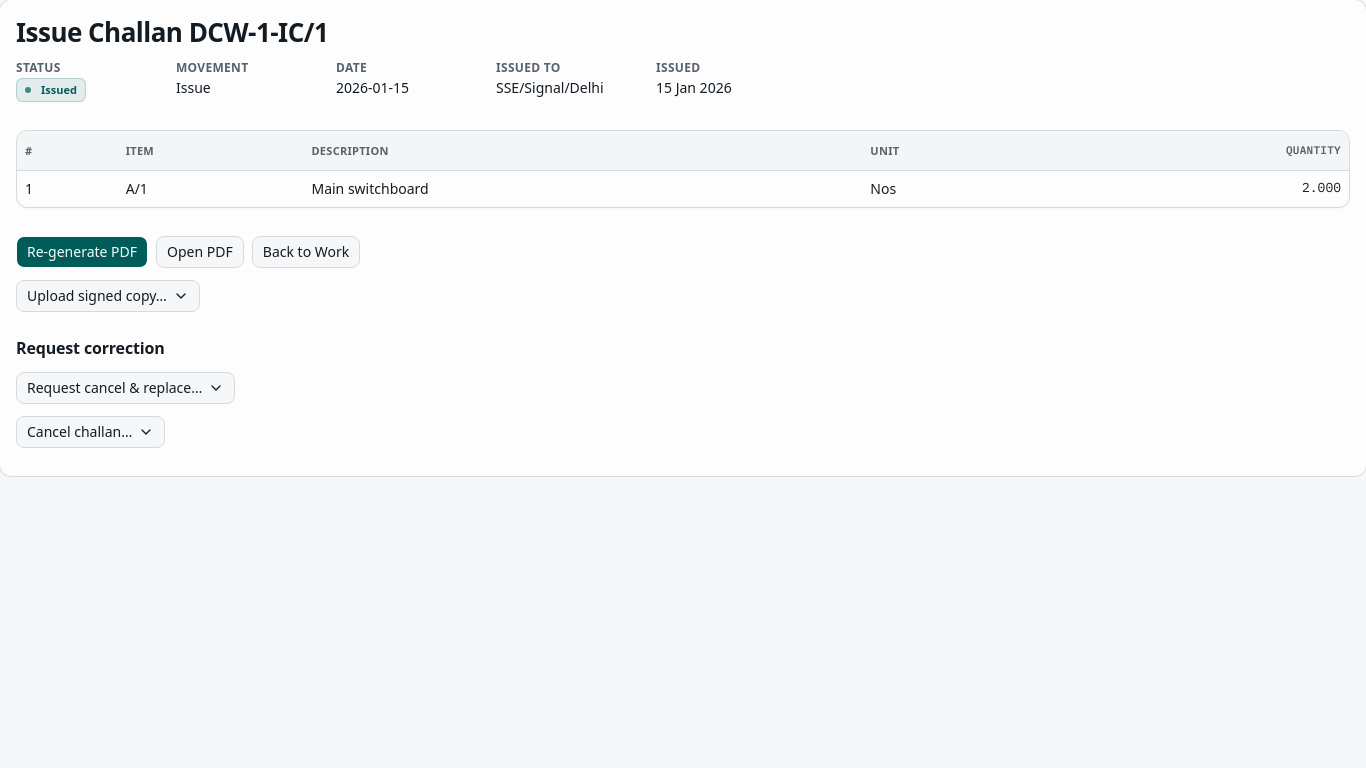
it: IssueChallanDetail on a completed Work › leaves both forms open while the Work is active
Click the button "Cancel challan…": (91, 432) [16,416,165,448]
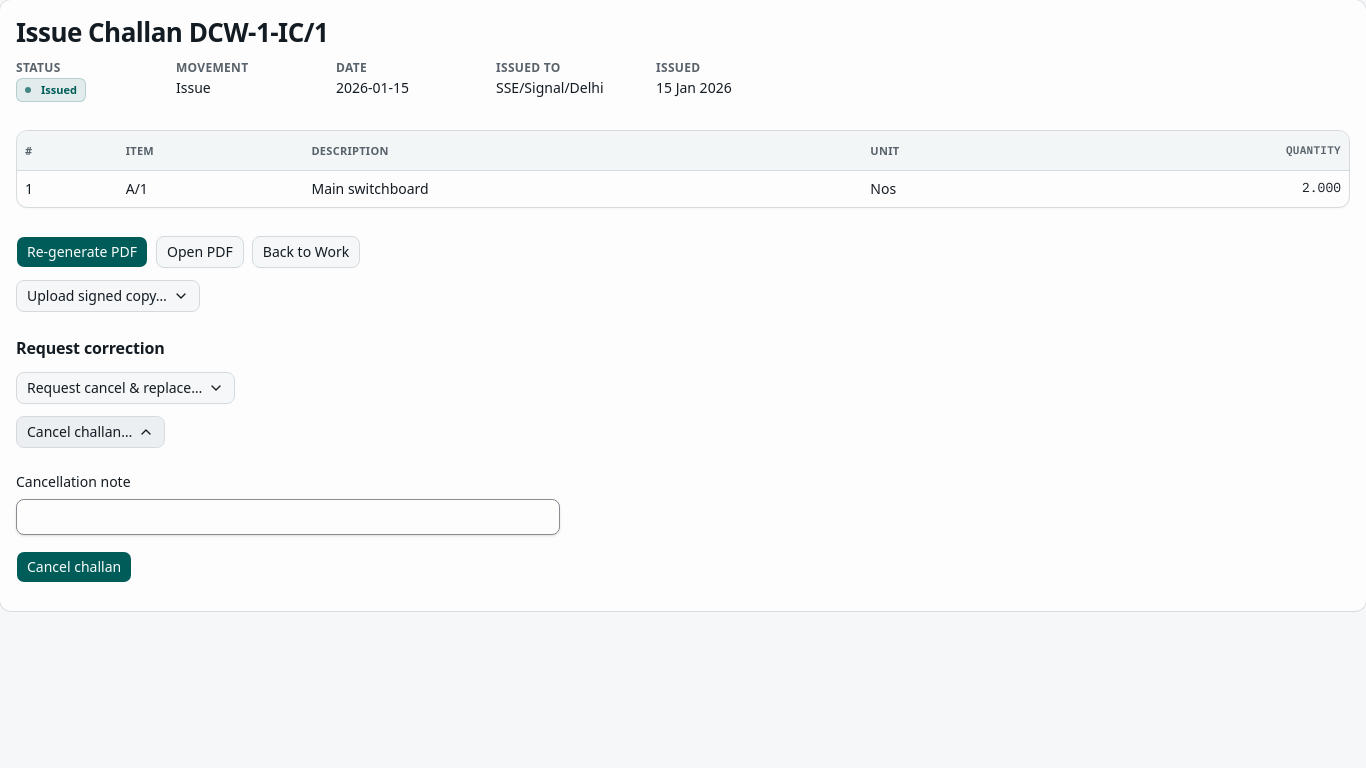
Expected: the button "Request cancel & replace…" is shown, [16,372,235,404]
Now the field labelled "Cancellation note" is shown, box [16,499,560,535]
